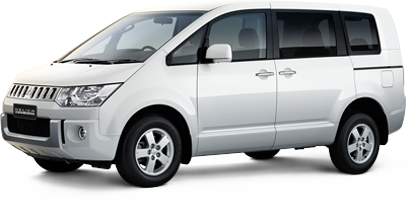van: (3, 1, 408, 188)
